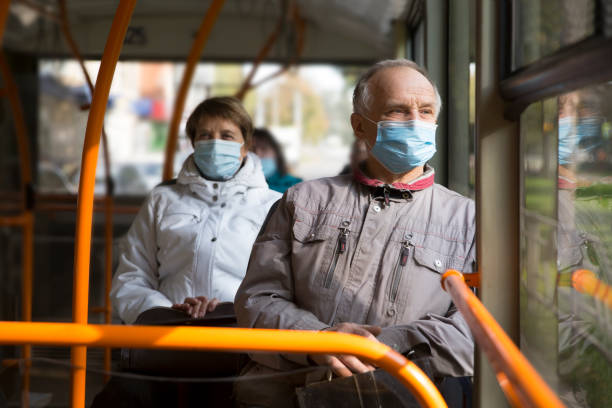with mask: (349, 54, 451, 176), (178, 107, 256, 184)
